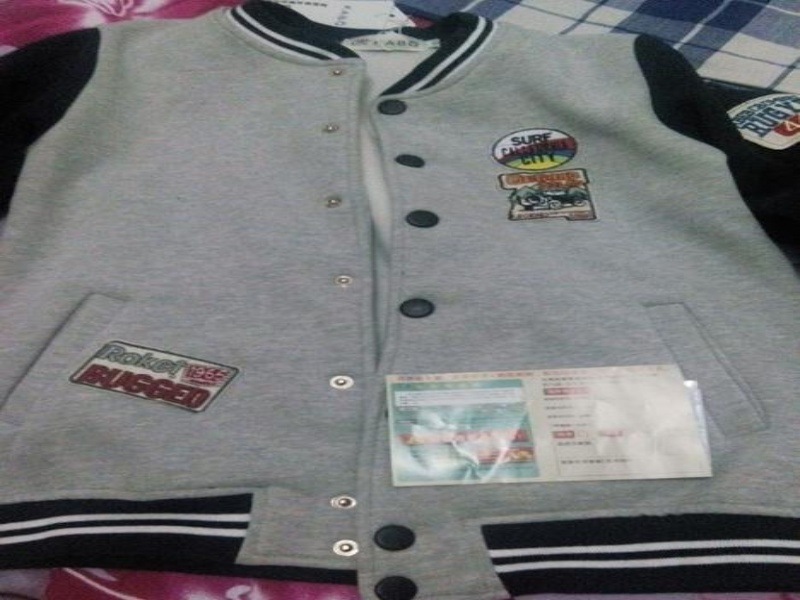long_sleeved_outwear: (0, 2, 798, 599)
